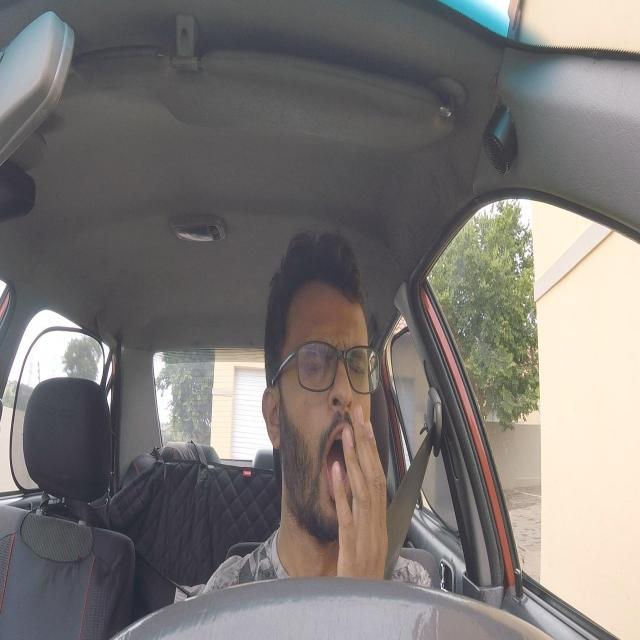close: (304, 340, 334, 384), (345, 342, 373, 384)
